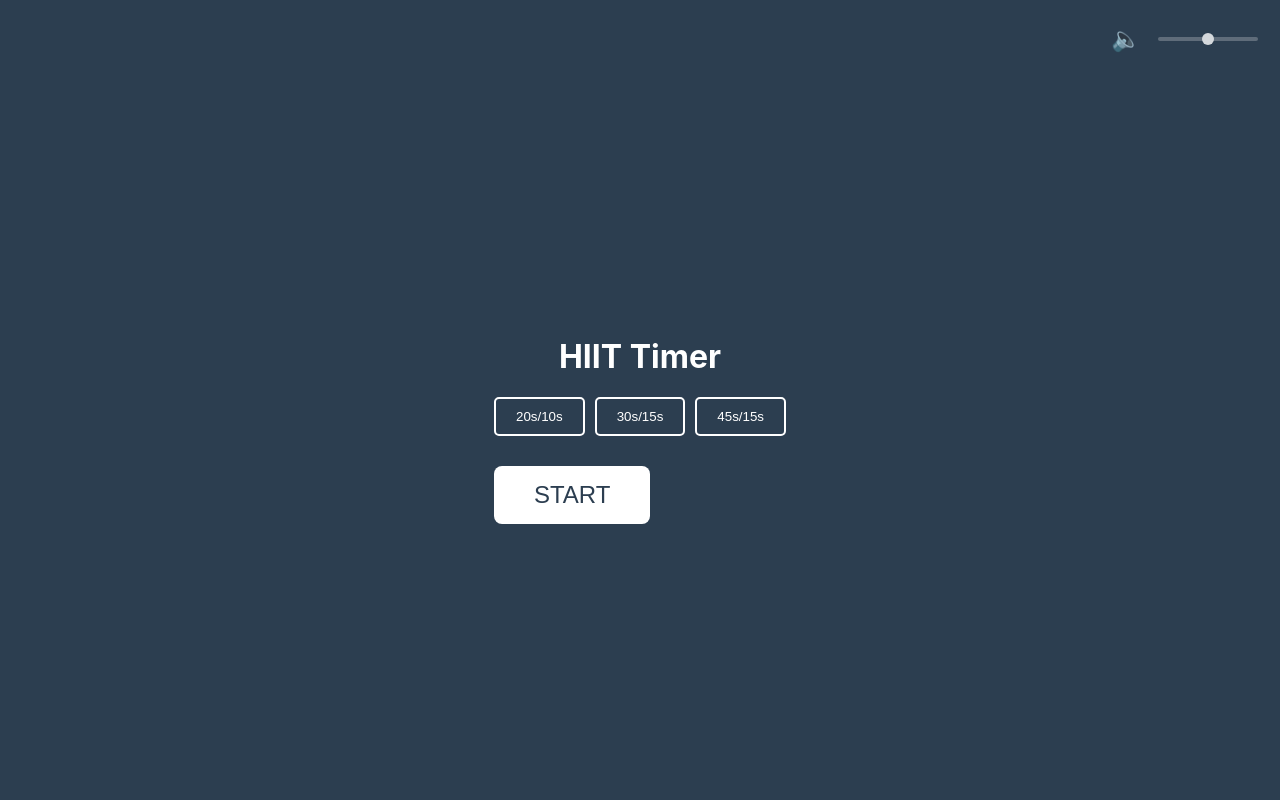
App Component › starts timer when START is clicked
Click the button "START" at [572, 495], box [494, 466, 650, 524]
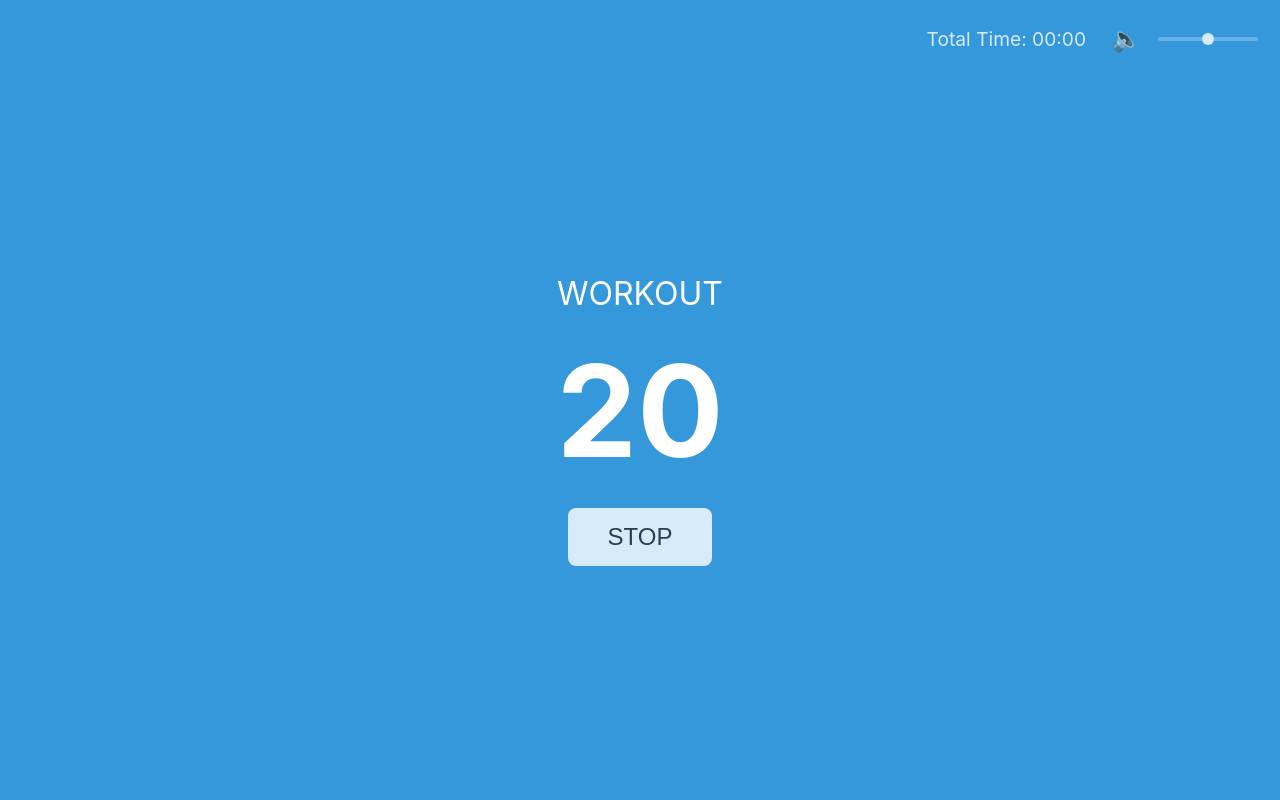
Expected: the text "20" is shown, [556, 333, 723, 488]
Expected: the text "WORKOUT" is shown, [556, 274, 723, 313]
